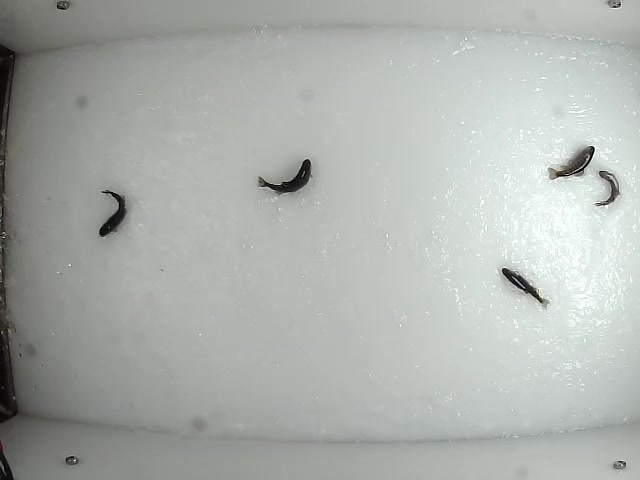fish: (254, 155, 314, 197), (499, 267, 552, 309), (545, 141, 595, 182), (95, 189, 129, 241), (589, 169, 622, 209)
